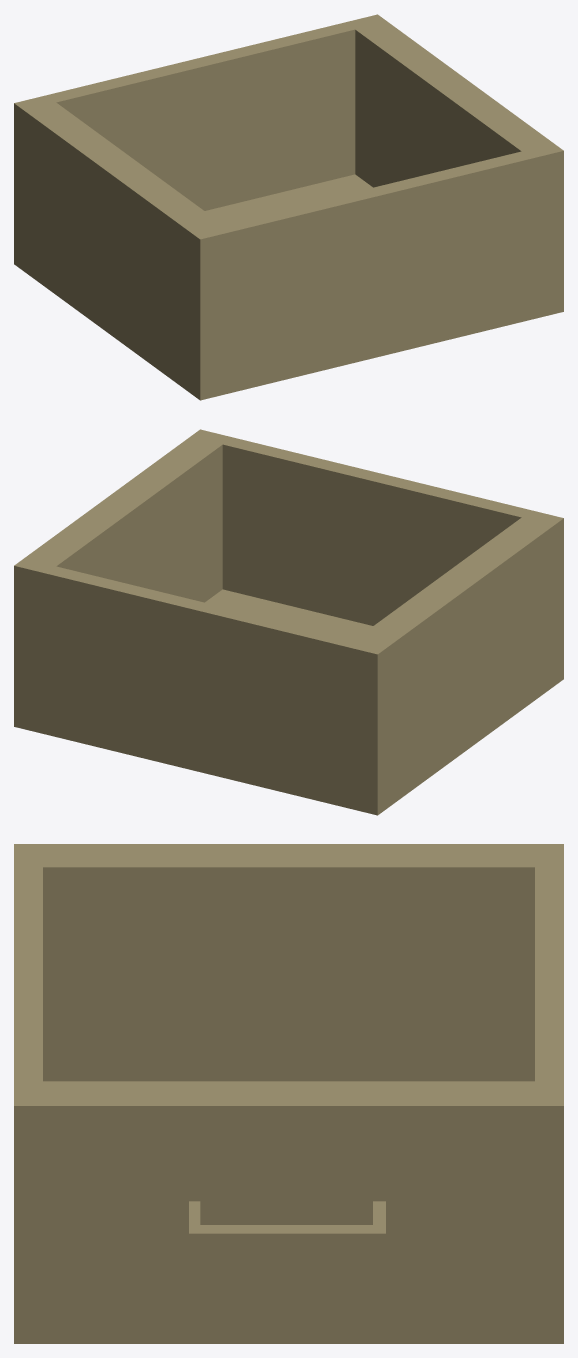
File: DrawerBox.fbx
3 views of the same model, one above another, from view 1: azimuth 30°, elevation 25°; view 2: azimuth 150°, elevation 25°; view 3: azimuth 270°, elevation 25° (orthographic). The views are drawn at different scales.
Visible parts, largest first — view 1: drawer_box; view 2: drawer_box; view 3: drawer_box, drawer_handle.
Boxes of the visible parts, bbox=[...] form: drawer_box: bbox=[14, 14, 563, 400]; drawer_box: bbox=[14, 429, 563, 815]; drawer_box: bbox=[14, 844, 563, 1343]; drawer_handle: bbox=[189, 1201, 385, 1257].
Size of the model in its own units: 3.41 by 1.28 by 2.69.
